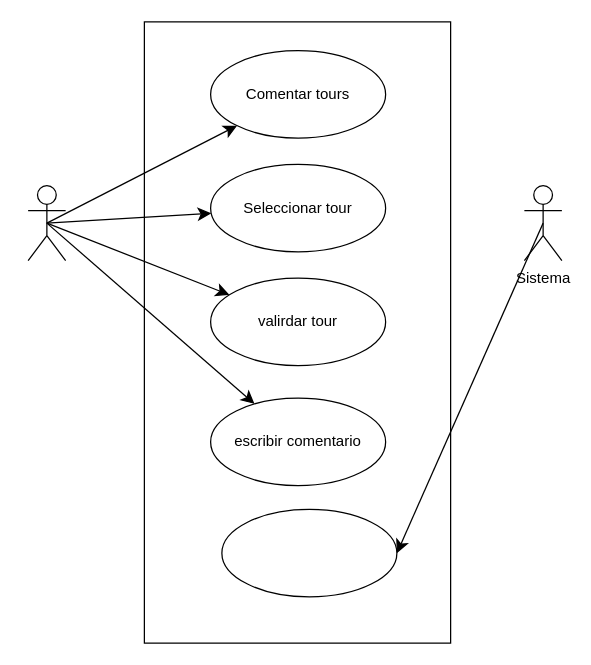
The diagram is 591 pixels wide and 665 high, and some of its shapes have lost their labels. Each missing label, with the box of its shape:
almacenar comentario: (221, 508, 397, 597)
Usuario: (27, 184, 66, 261)
